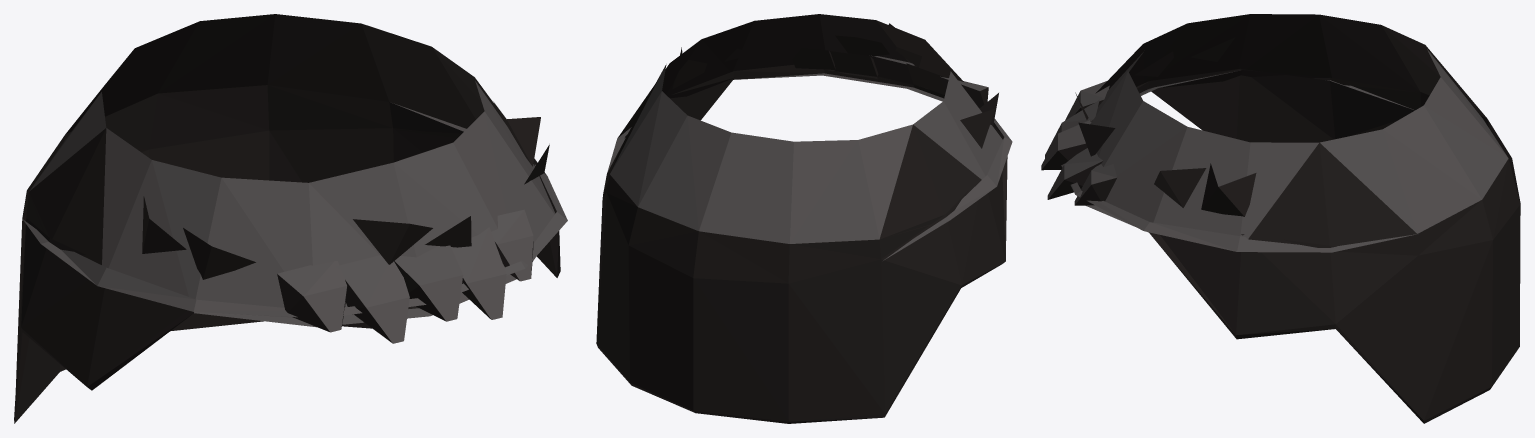
File: hair_short_02_hatcut.glb
The picture shows the model from 3 angles, left to right: view 1: azimuth 30°, elevation 25°; view 2: azimuth 150°, elevation 25°; view 3: azimuth 270°, elevation 25°; orthographic projection. The views are drawn at different scales.
Visible parts, largest first — view 1: hair_short_02_hatcut; view 2: hair_short_02_hatcut; view 3: hair_short_02_hatcut.
Boxes of the visible parts, bbox=[...] form: hair_short_02_hatcut: bbox=[14, 14, 567, 423]; hair_short_02_hatcut: bbox=[596, 14, 1012, 423]; hair_short_02_hatcut: bbox=[1041, 14, 1520, 423].
Size of the model in its own units: 0.2633 by 0.1831 by 0.2845.
1 material, 1 textured.
